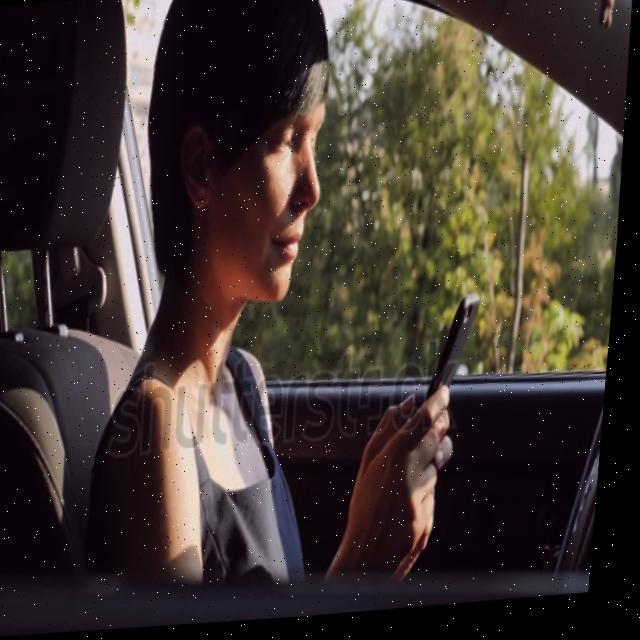PhoneCall: (428, 297, 488, 413)
